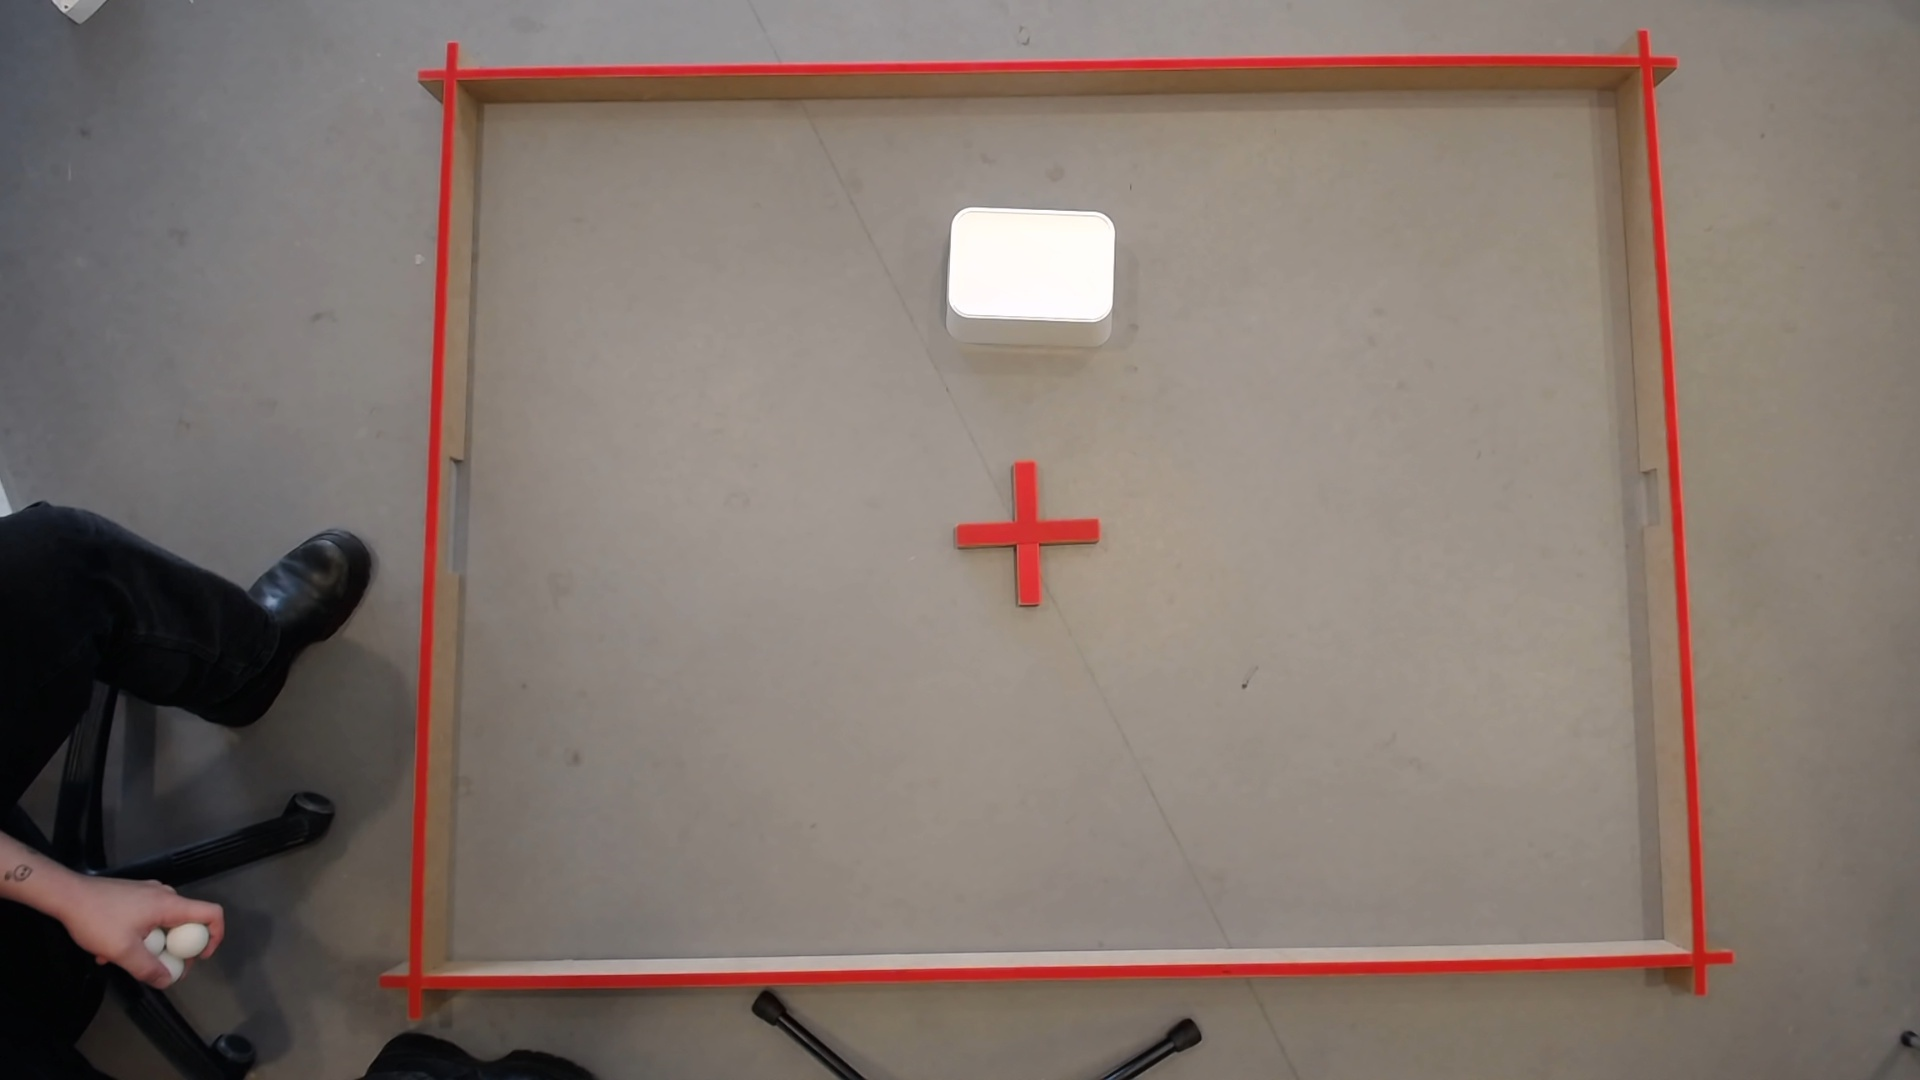car: (945, 203, 1116, 323)
